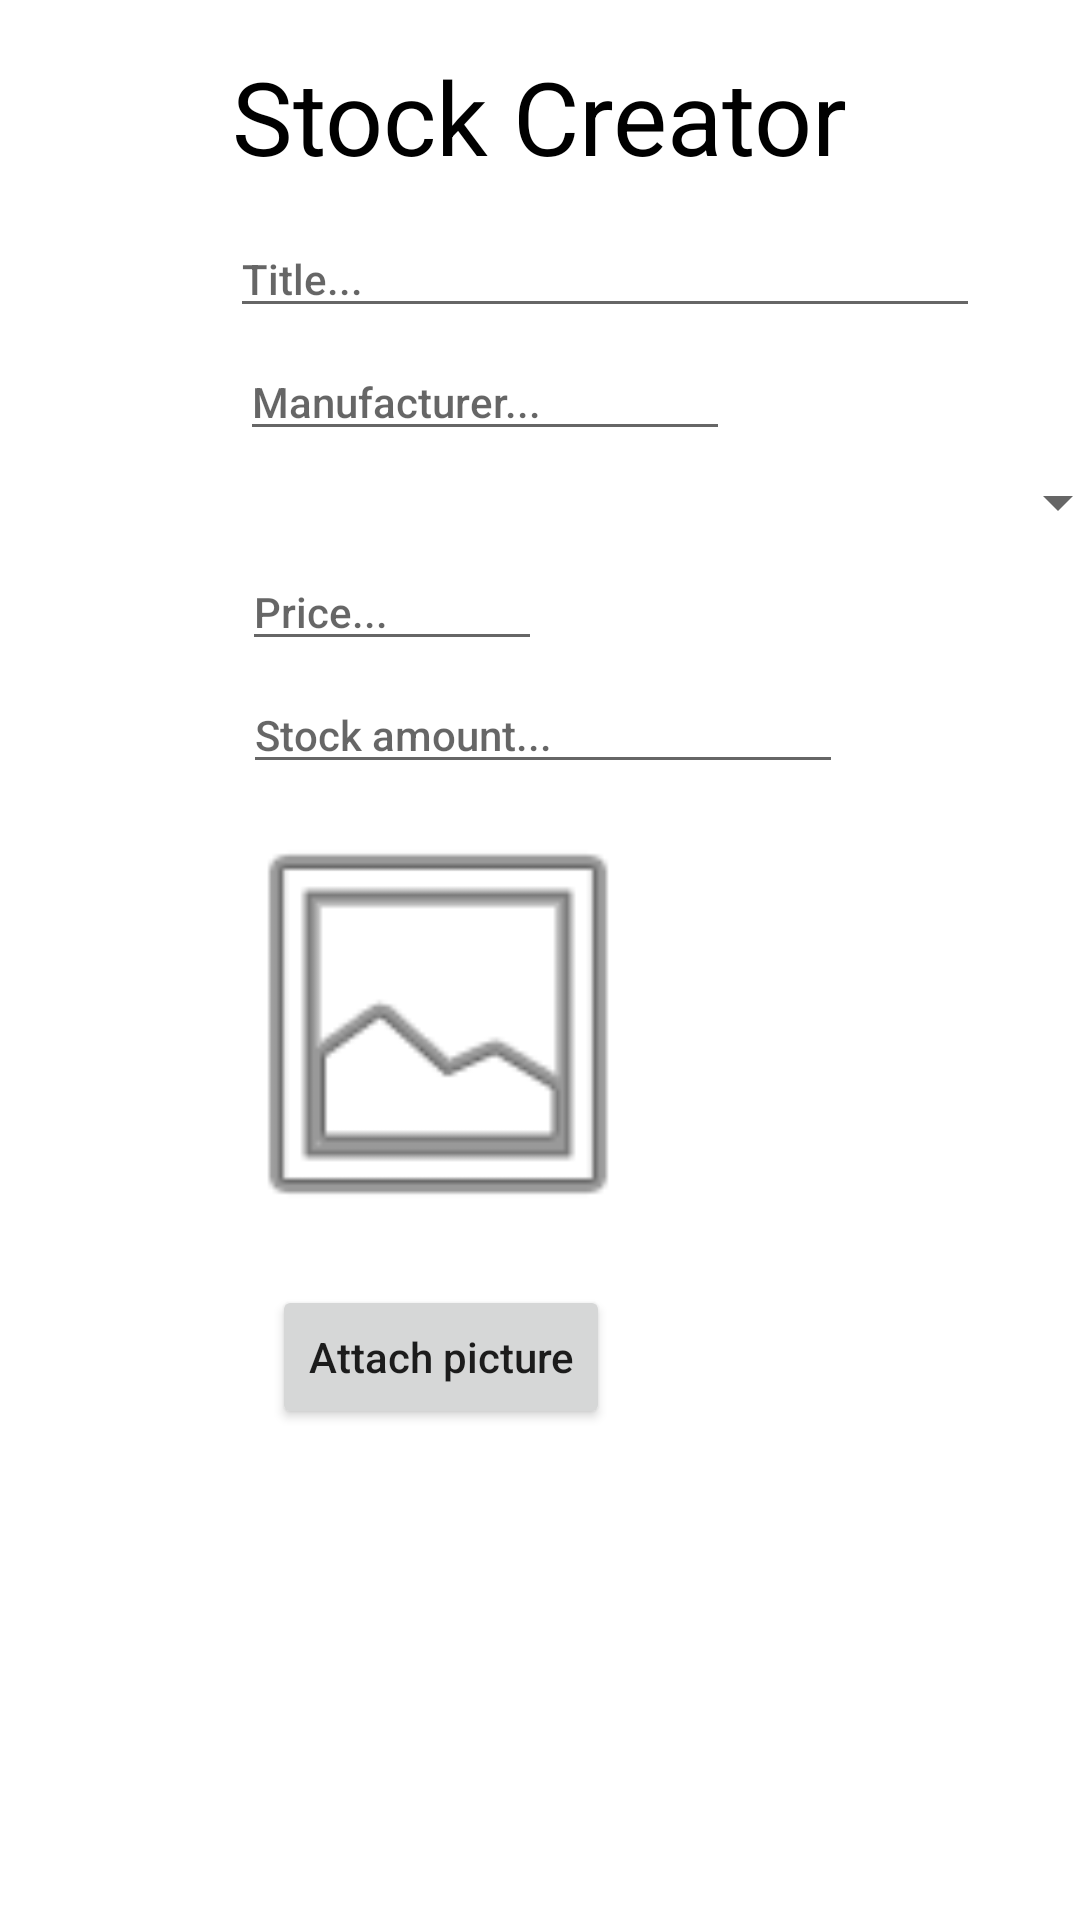

Point at icon controls on the screen. Image size 1080×1920, points as (x=x, y=y).
gallery: (x=438, y=1024)
